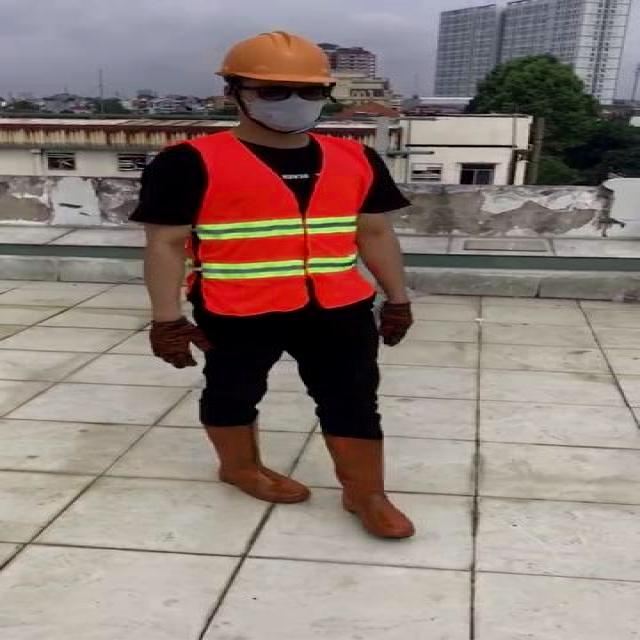boots: (323, 436, 418, 539), (203, 423, 309, 504)
face_mask: (245, 82, 332, 130)
glasses: (244, 82, 336, 105)
hand_glove: (147, 319, 217, 370), (377, 303, 414, 347)
head_helmet: (213, 29, 339, 85)
person: (138, 24, 438, 548)
vest: (188, 134, 377, 313)
